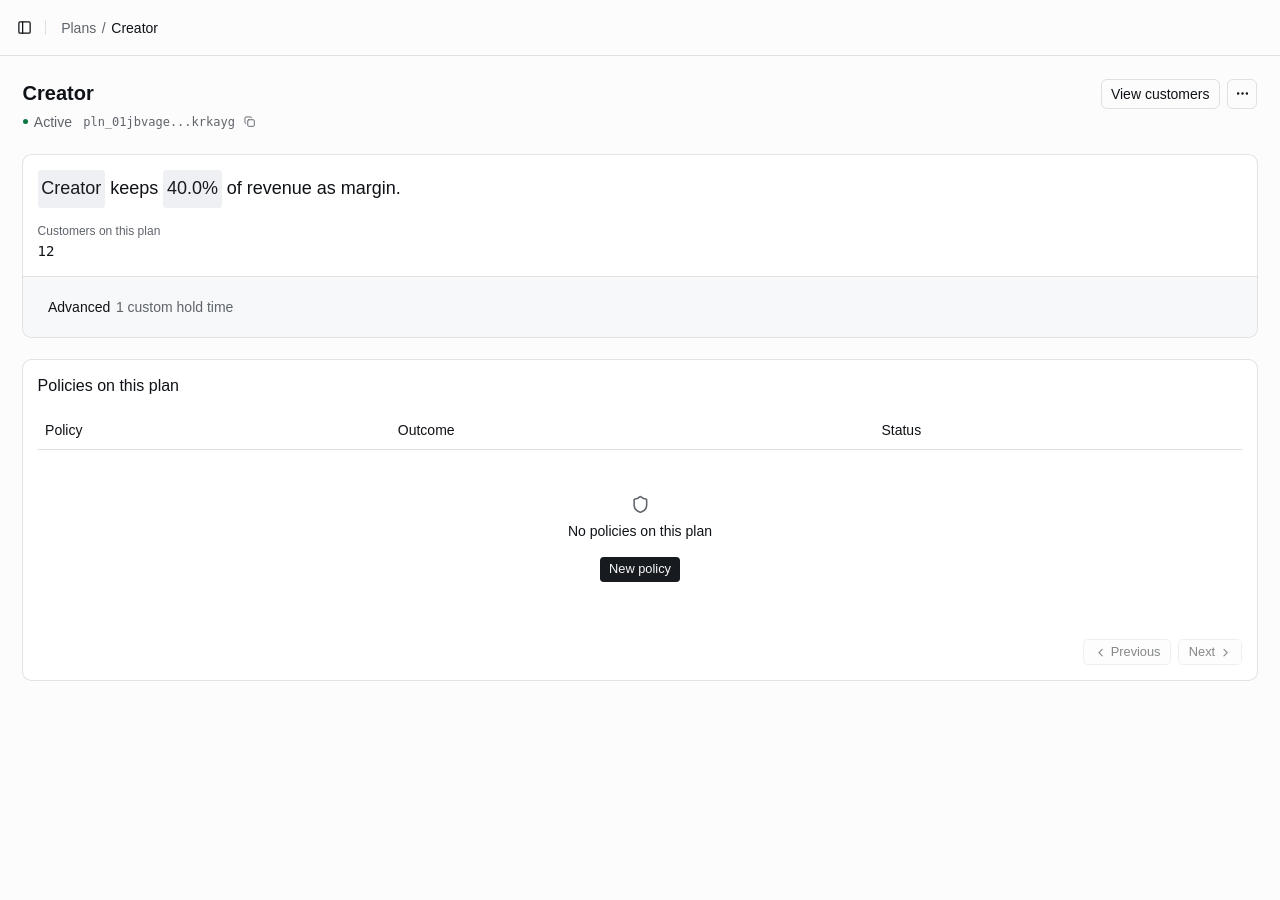
it: Discard returns to the saved plan
The image size is (1280, 900).
Expected: the heading "Creator" is shown, [22,82,94,104]
Click the button "Creator" at coordinates (71, 189), box [38,170,105,208]
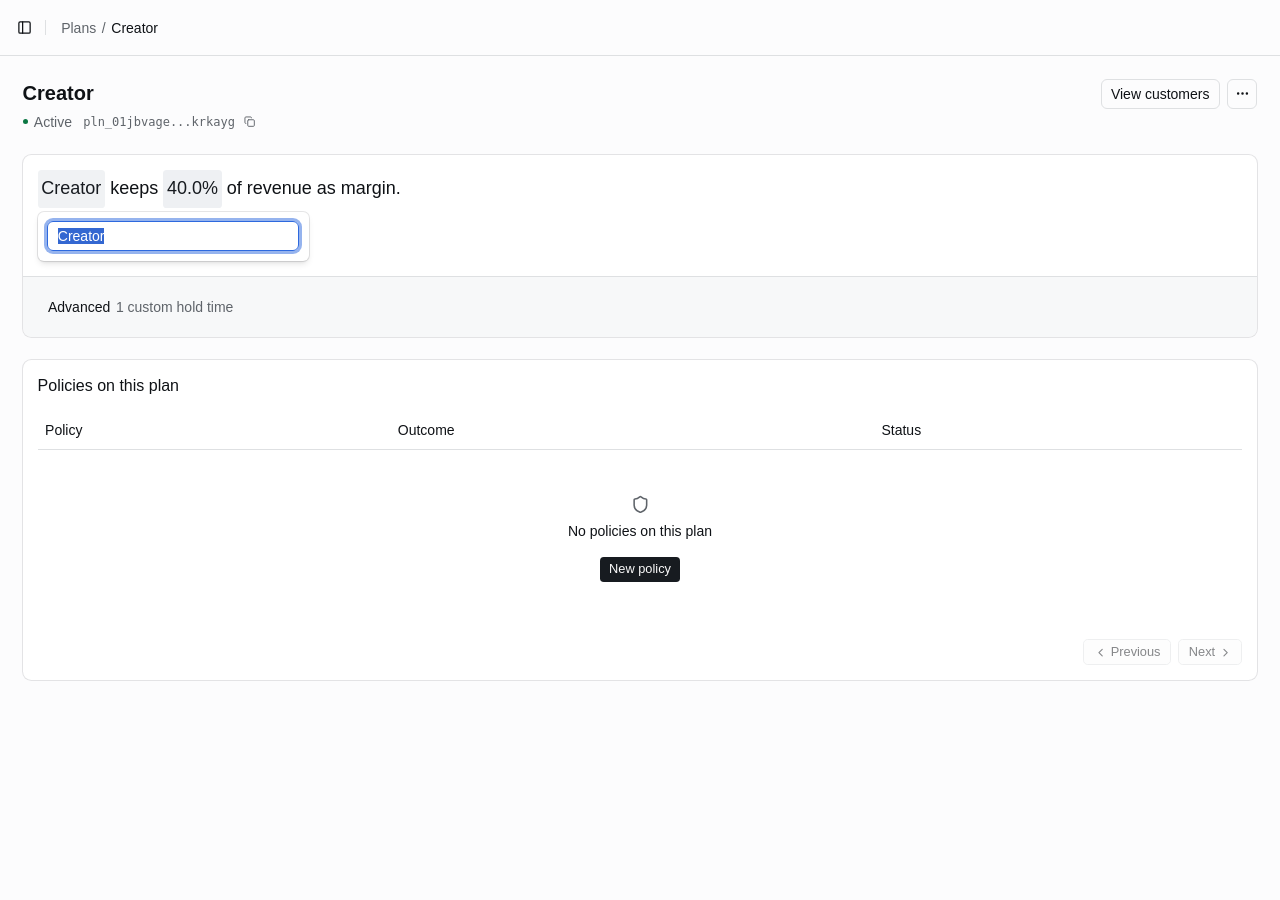
Type " plus" into the field named "Plan name" at coordinates (173, 236), box [47,221,299,252]
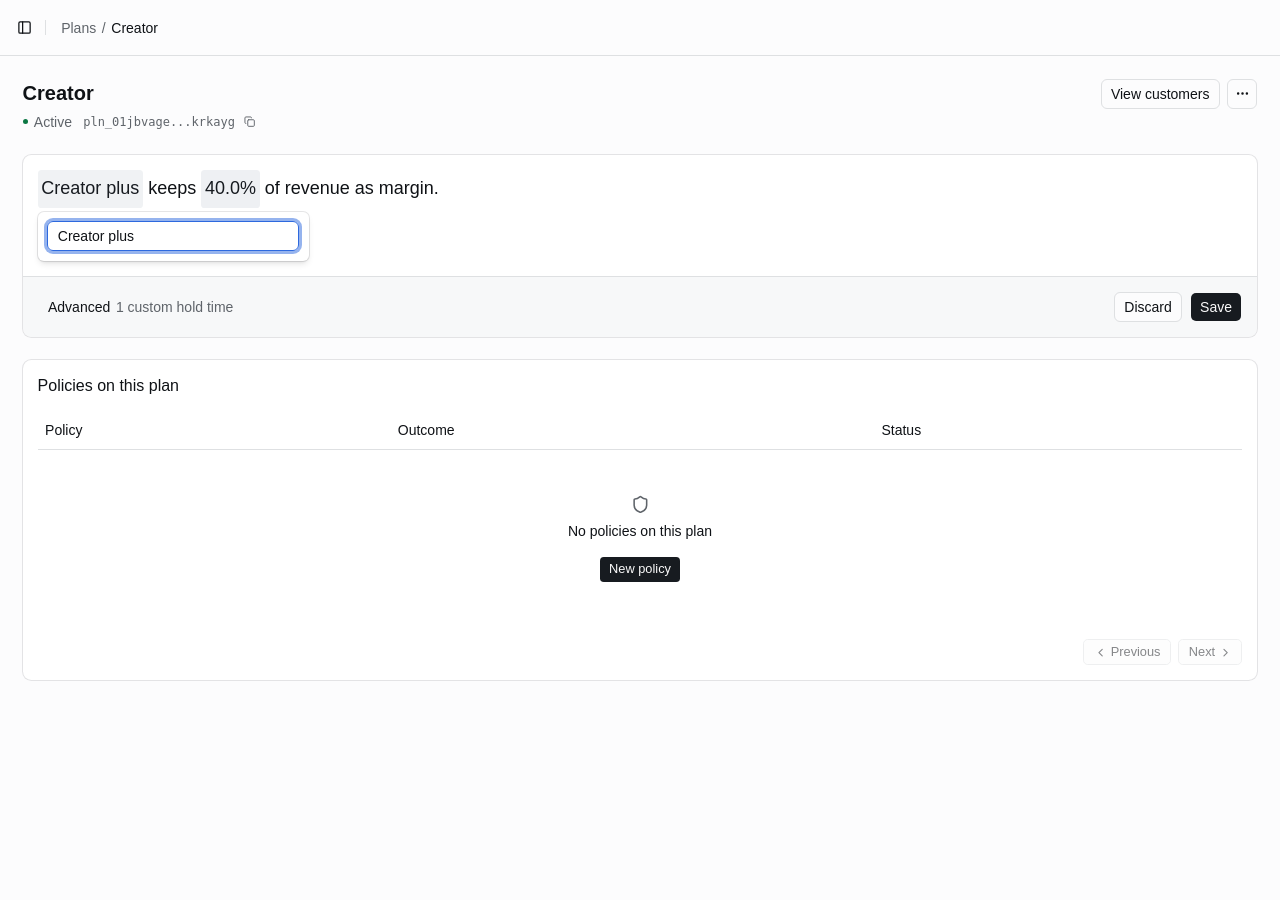
Press Escape
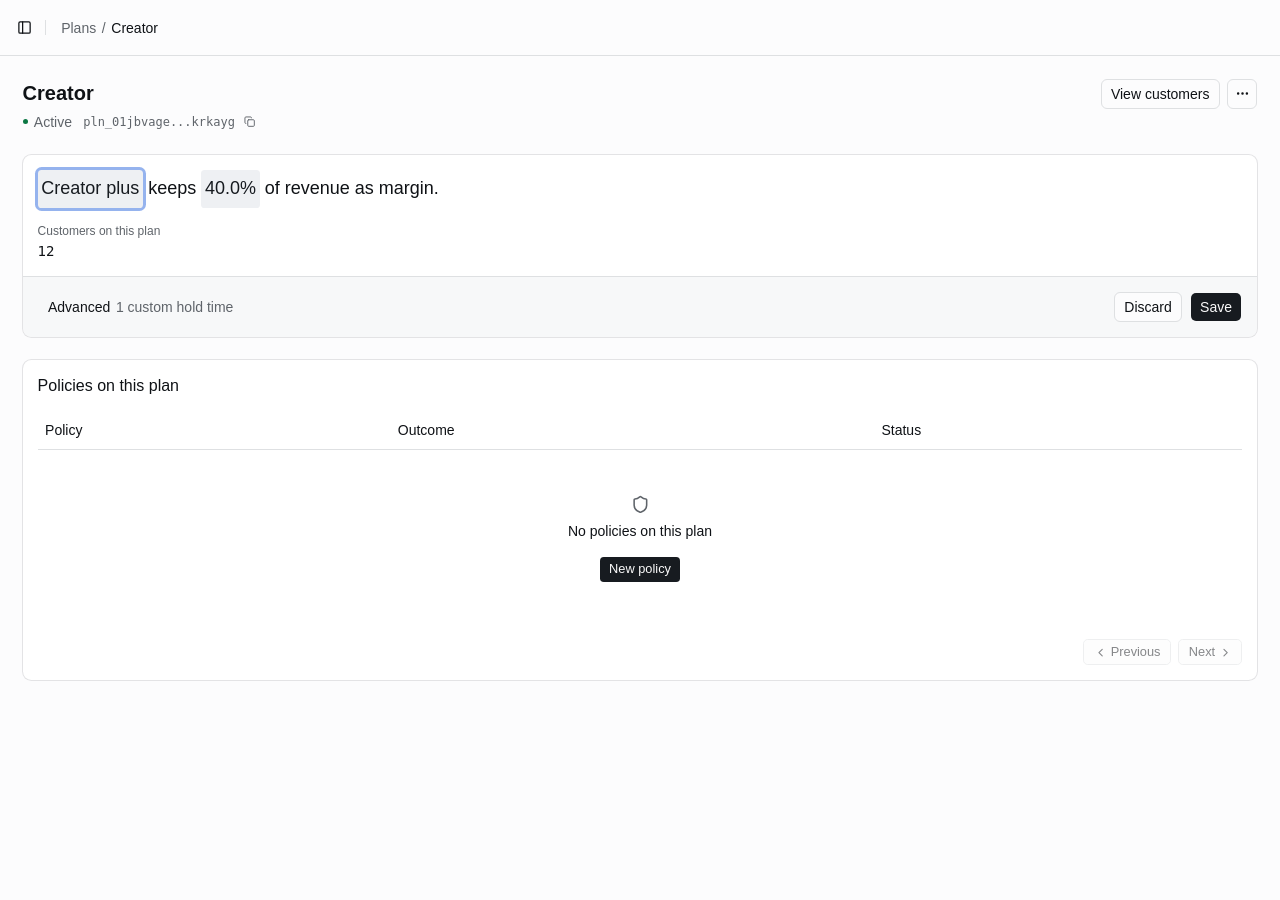
Now the element showing "Creator plus keeps 40.0% of revenue as margin." is shown, box [38,170,439,208]
Click the button "Discard" at coordinates (1148, 307), box [1114,292,1182,322]
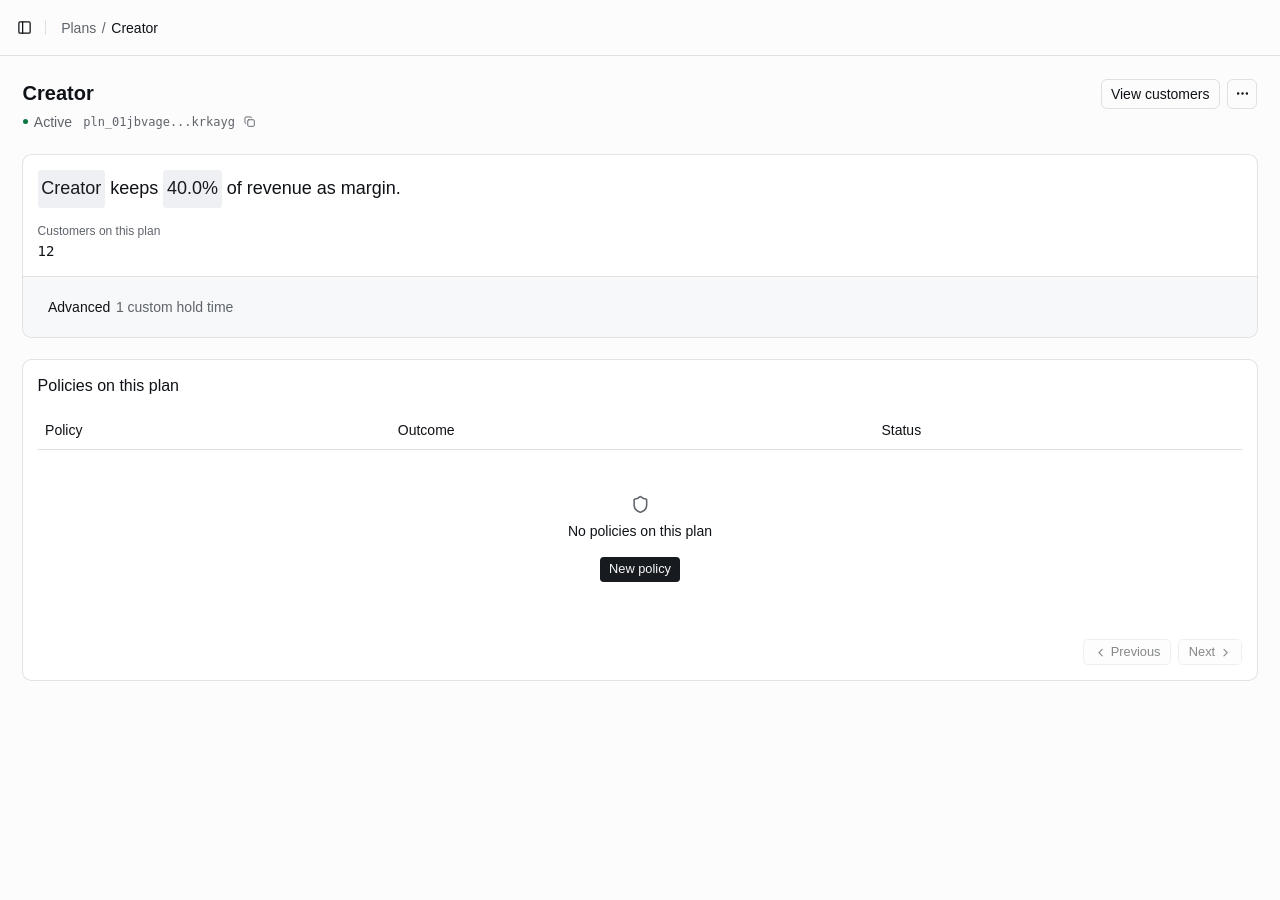
Now the element showing "Creator keeps 40.0% of revenue as margin." is shown, box [38,170,401,208]
Now the button "Save" is gone
